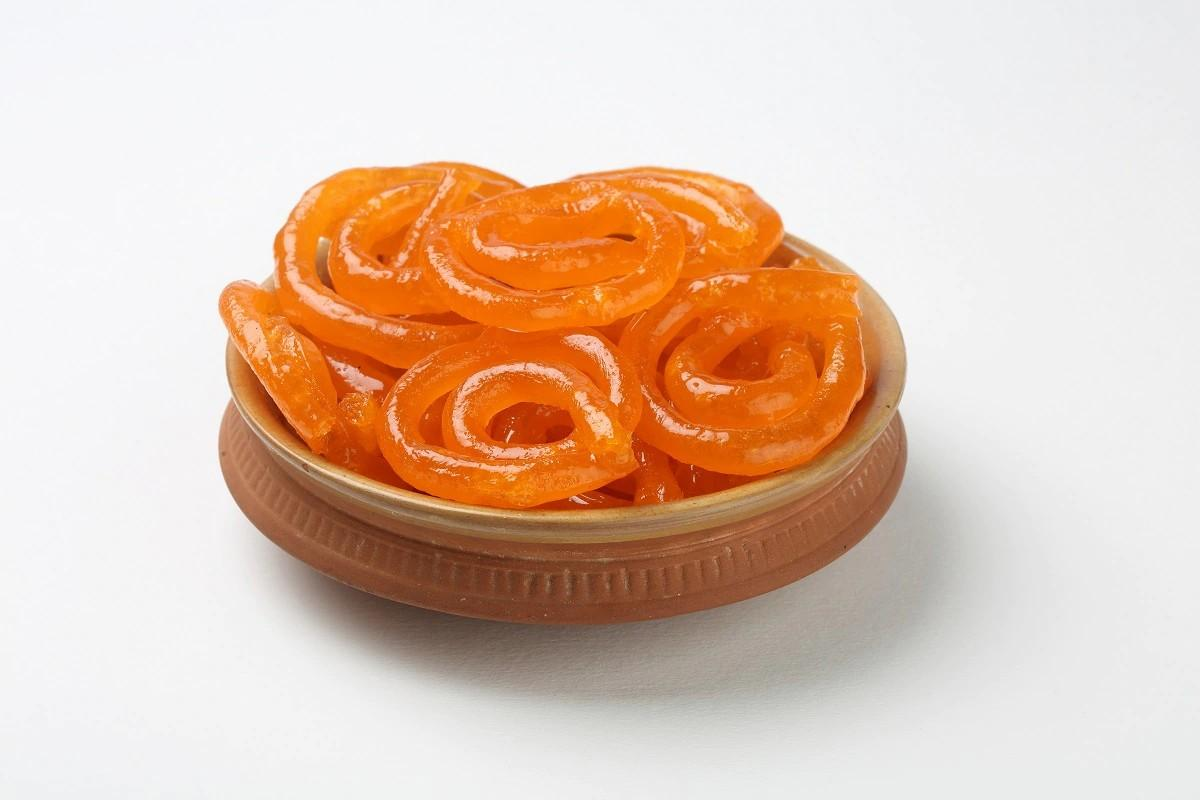Jalebi: (212, 160, 877, 508)
